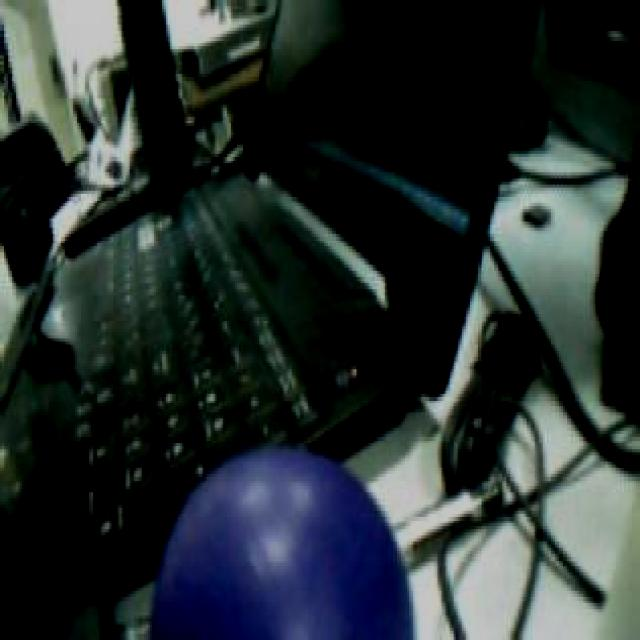BallPurple: (152, 443, 413, 640)
